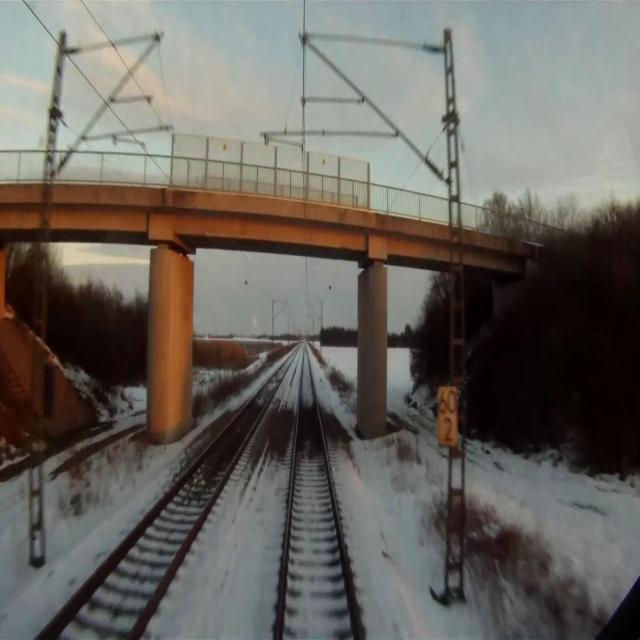rail-track: (41, 353, 293, 639), (279, 353, 356, 639)
